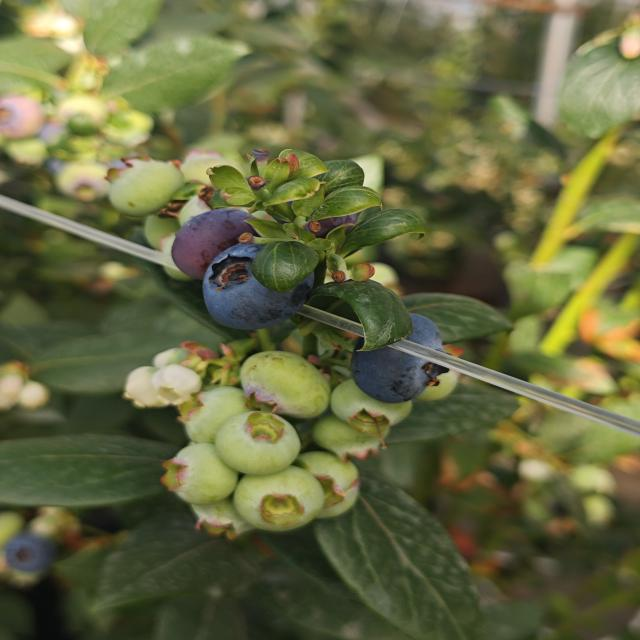ripe: (198, 240, 319, 333), (347, 311, 452, 406), (168, 206, 261, 282)
